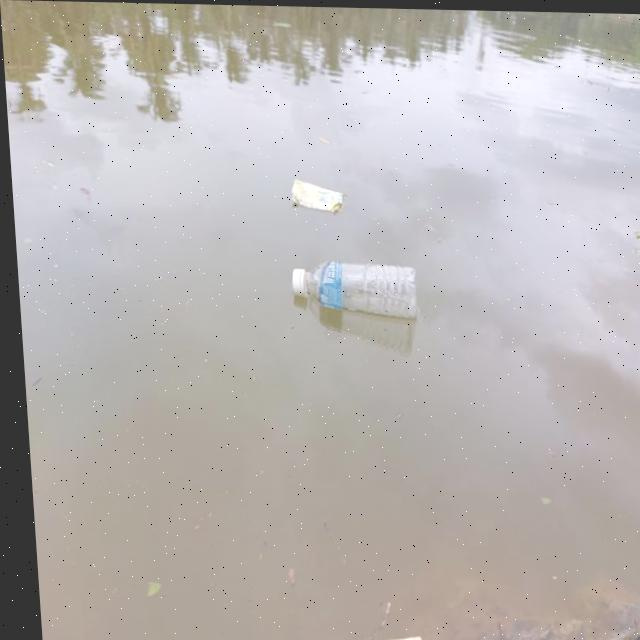paper: (275, 169, 352, 227)
waterbottle: (273, 251, 433, 331)
